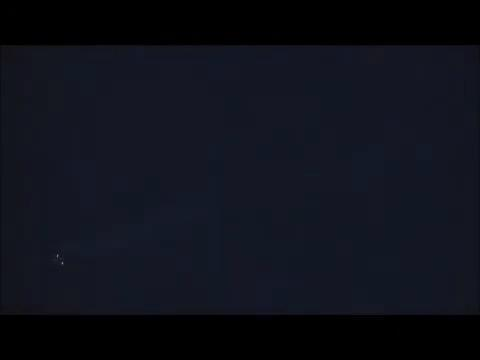Plane: (43, 246, 74, 270)
